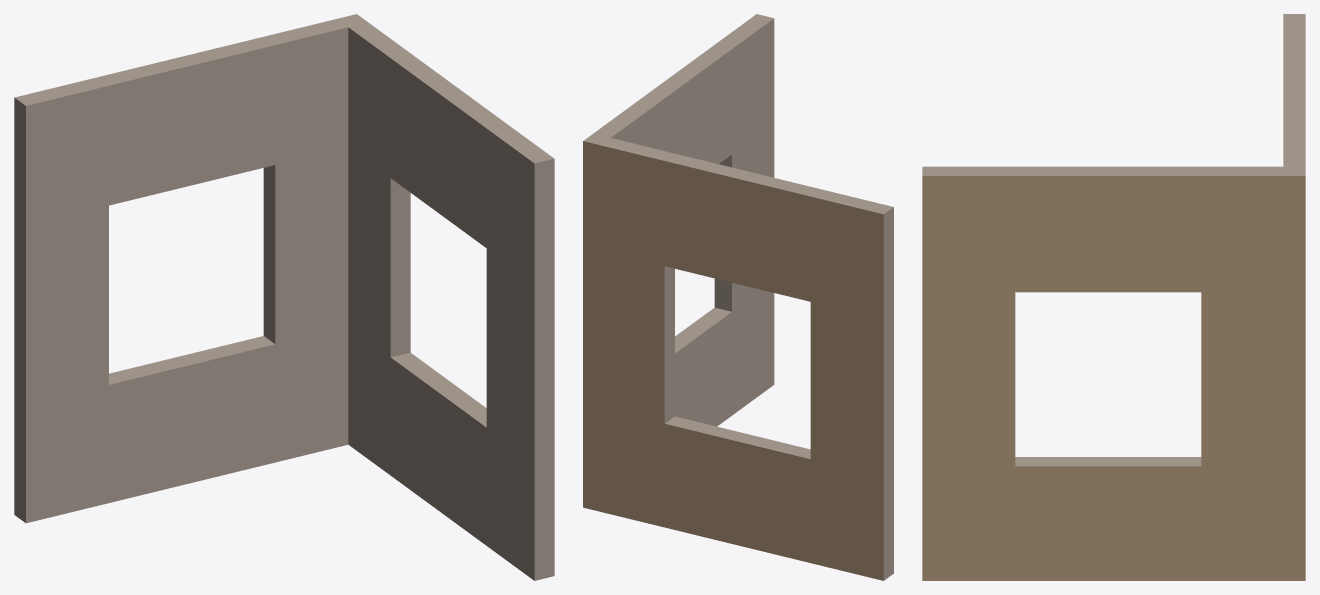
The model's file is Wall2_C4_12.fbx.
3 renders of one model, left to right at view 1: azimuth 30°, elevation 25°; view 2: azimuth 150°, elevation 25°; view 3: azimuth 270°, elevation 25°, orthographic. The views are drawn at different scales.
Visible parts, largest first — view 1: Wall2_C4_12; view 2: Wall2_C4_12; view 3: Wall2_C4_12.
Boxes of the visible parts, x1,y1,x2,y2 form: Wall2_C4_12: [14, 14, 554, 580]; Wall2_C4_12: [583, 14, 893, 580]; Wall2_C4_12: [922, 14, 1305, 580].
Size of the model in its own units: 258 by 300 by 258.
